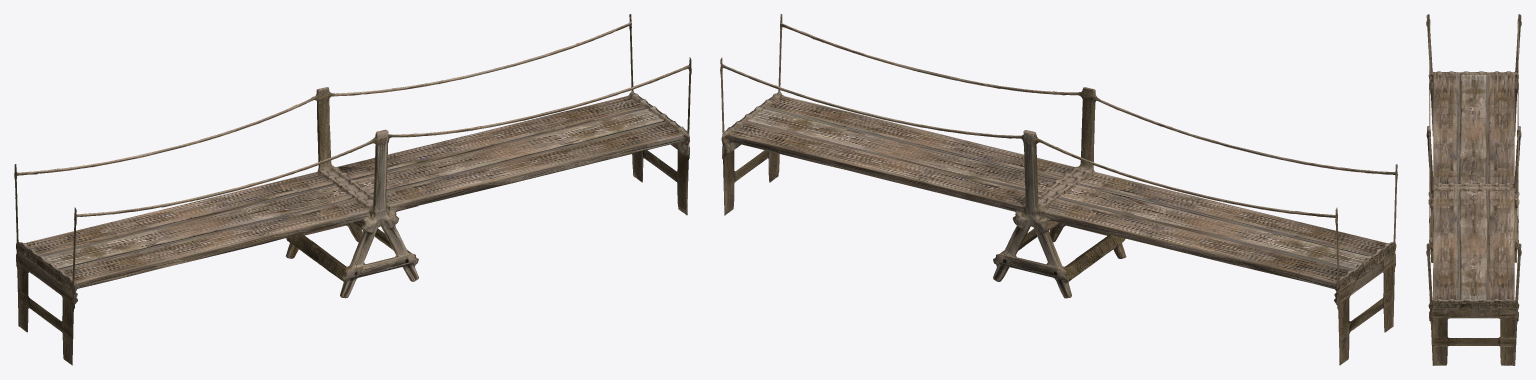
Rendered from roof-walk-board-long.glb.
3 renders of one model, left to right at view 1: azimuth 30°, elevation 25°; view 2: azimuth 150°, elevation 25°; view 3: azimuth 270°, elevation 25°, orthographic. The views are drawn at different scales.
Parts seen in each view (by area): view 1: roof-walk-board-long.001; view 2: roof-walk-board-long.001; view 3: roof-walk-board-long.001.
Boxes of the visible parts, <box> form: roof-walk-board-long.001: <box>14,14,691,365</box>; roof-walk-board-long.001: <box>720,14,1397,365</box>; roof-walk-board-long.001: <box>1426,14,1521,365</box>.
Size of the model in its own units: 1.9 by 0.4784 by 0.3347.
Materials: 1 (1 with a texture image).
